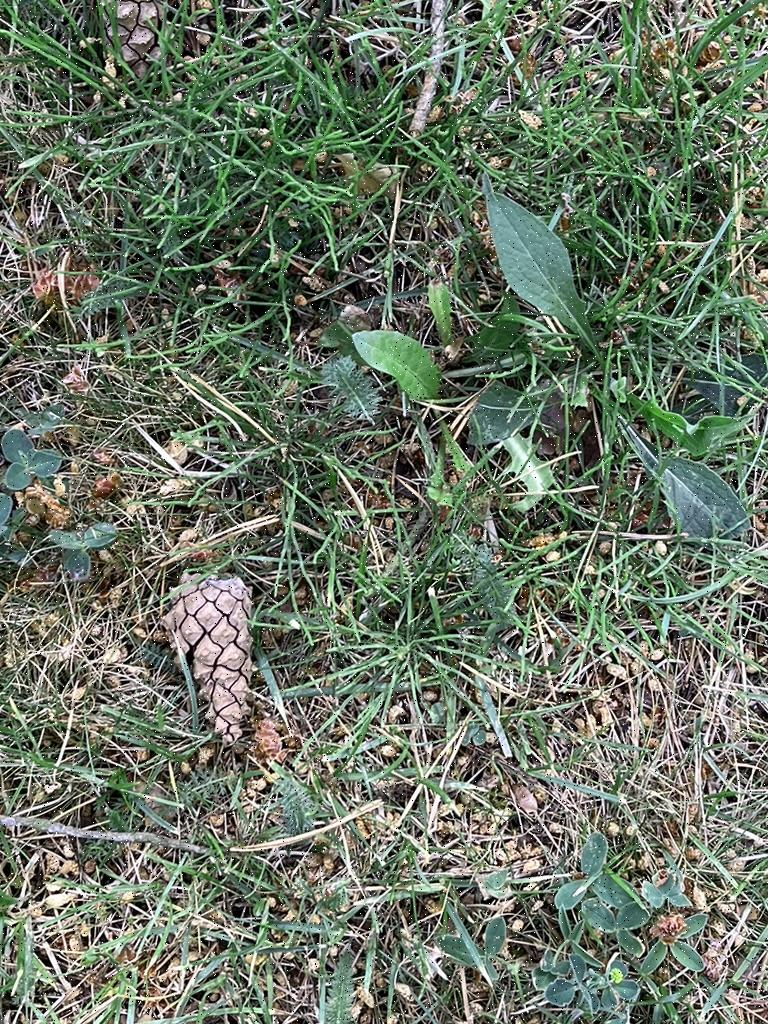pine: (158, 563, 278, 766), (68, 0, 223, 88)
